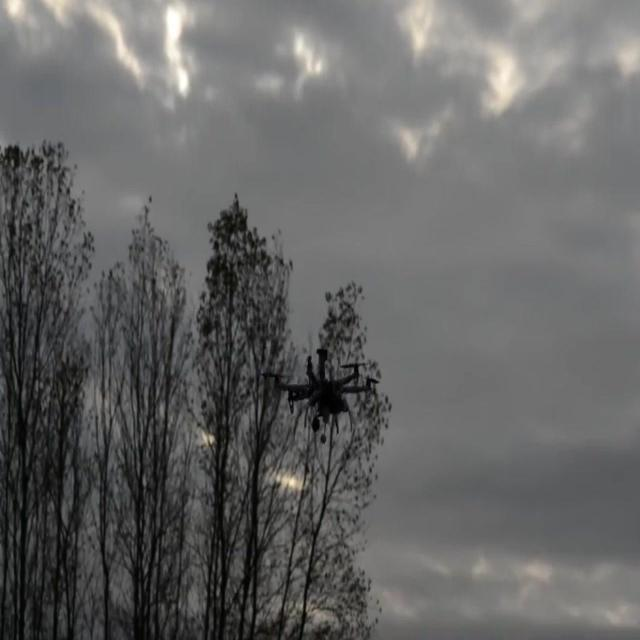drone: (262, 343, 379, 446)
